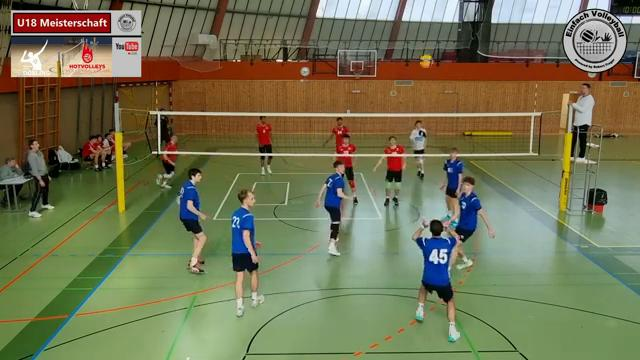ricezione: (407, 219, 474, 343)
